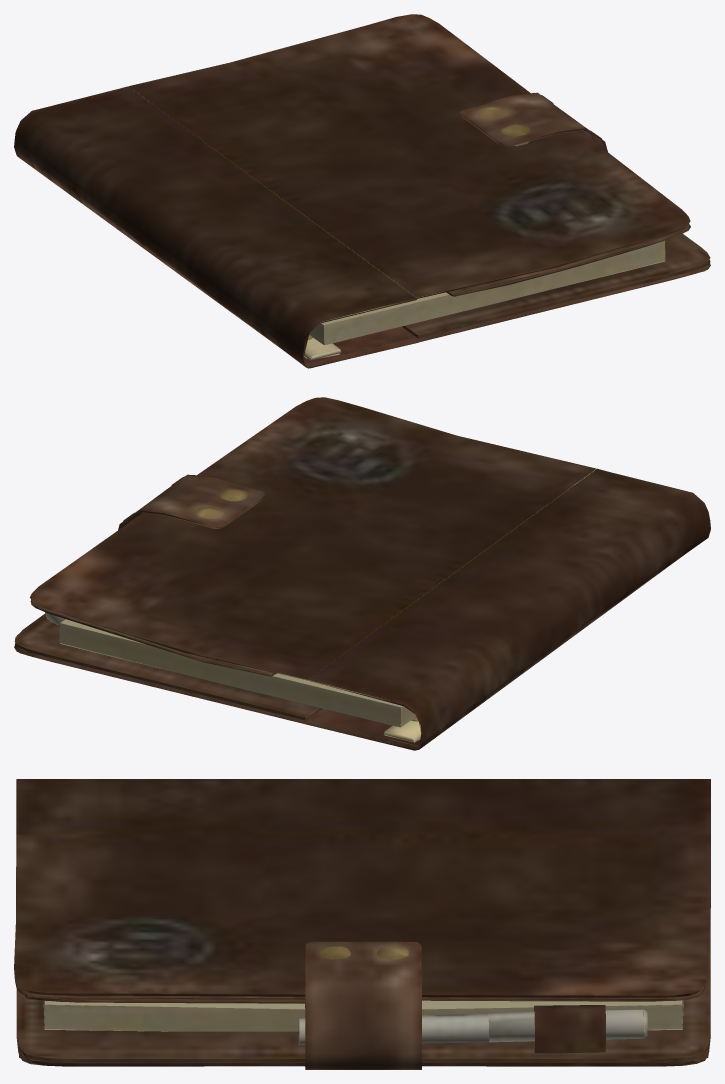
File: binder.glb
The picture shows the model from 3 angles, top to bottom: view 1: azimuth 30°, elevation 25°; view 2: azimuth 150°, elevation 25°; view 3: azimuth 270°, elevation 25°; orthographic projection. The views are drawn at different scales.
Parts seen in each view (by area): view 1: binder_notebook_closed; view 2: binder_notebook_closed; view 3: binder_notebook_closed.
Boxes of the visible parts, x1=… form: binder_notebook_closed: x1=14, y1=14, x2=710, y2=368; binder_notebook_closed: x1=14, y1=397, x2=710, y2=750; binder_notebook_closed: x1=14, y1=779, x2=710, y2=1069.
Bounding box in the file's own units: 0.1704 × 0.0251 × 0.1999.
1 material, 1 textured.
